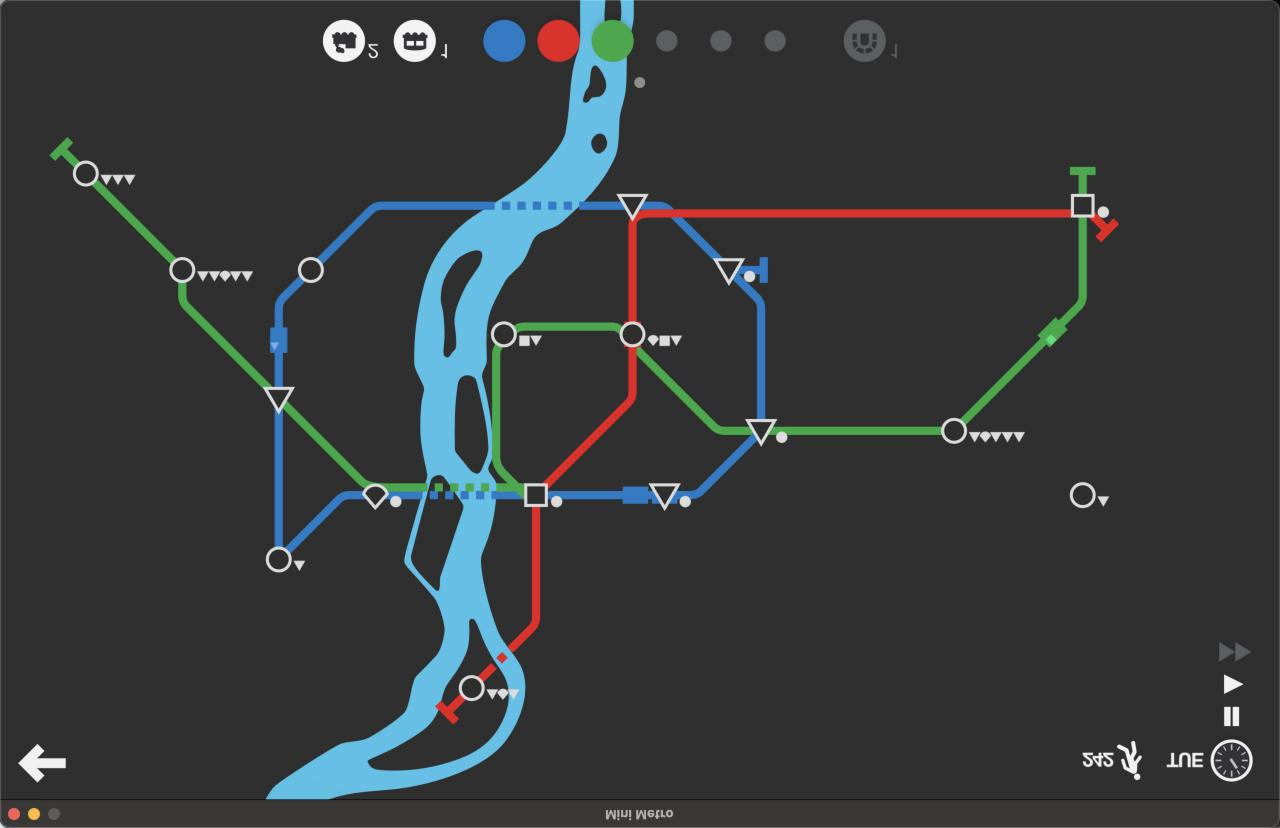BLUE LINE: (318, 200, 624, 261), (676, 437, 760, 500), (734, 277, 767, 417), (287, 491, 363, 550), (275, 279, 308, 387), (676, 219, 719, 260), (273, 411, 284, 546), (553, 489, 658, 501), (382, 492, 520, 500), (743, 260, 768, 283), (642, 199, 672, 208)
DARK GREEN LINE: (286, 343, 520, 493), (963, 219, 1087, 425), (636, 346, 756, 436), (178, 280, 272, 390), (92, 179, 172, 264), (772, 425, 940, 436), (516, 323, 625, 334), (1072, 169, 1101, 195), (49, 139, 76, 166)
RED LINE: (544, 347, 638, 482), (478, 510, 540, 680), (640, 208, 1069, 222), (628, 218, 639, 324), (434, 700, 464, 723), (1092, 216, 1118, 242)
